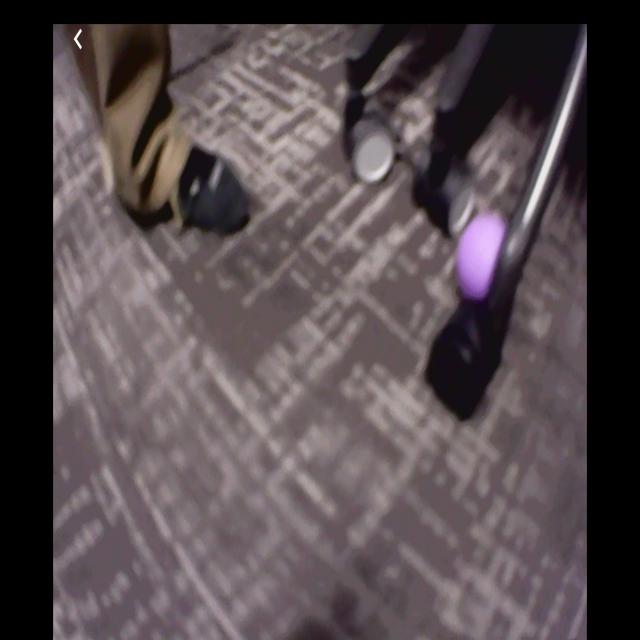ball: (457, 208, 506, 296)
